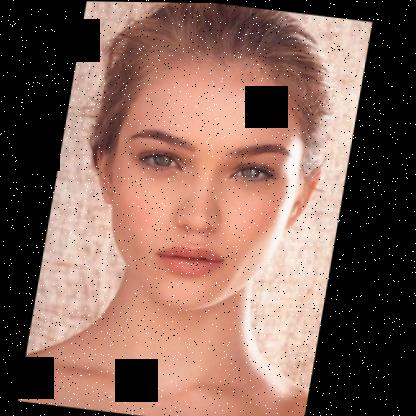Female: (73, 46, 340, 322)
